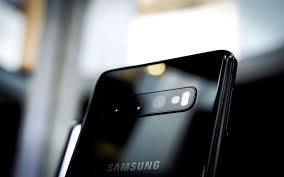Smartphone: (65, 55, 230, 177)
